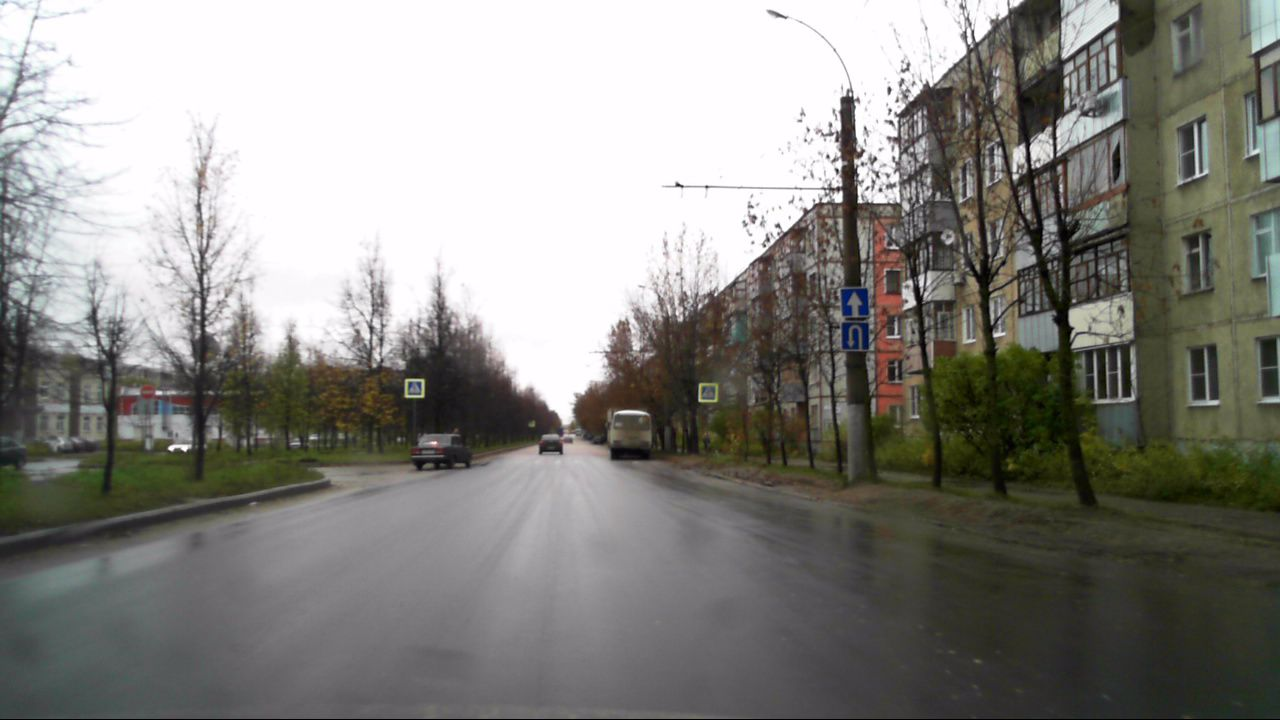U-turn: (842, 323, 868, 350)
